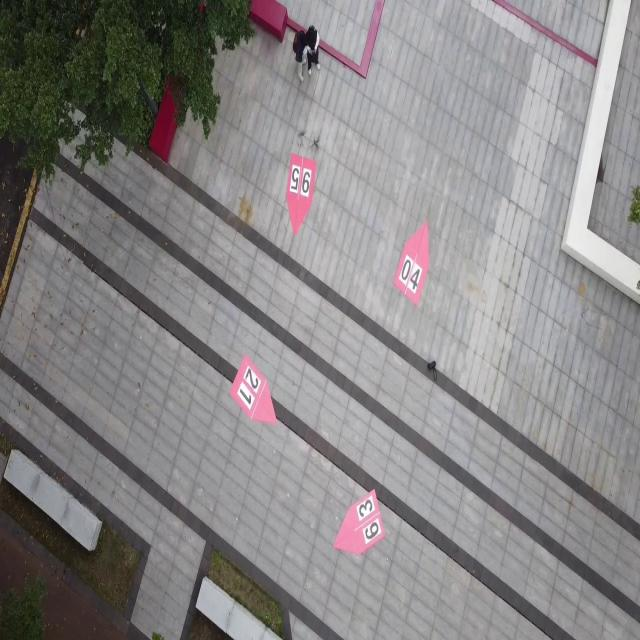-sign-: (328, 489, 391, 560), (229, 347, 280, 432), (391, 216, 437, 308), (280, 144, 322, 242)
